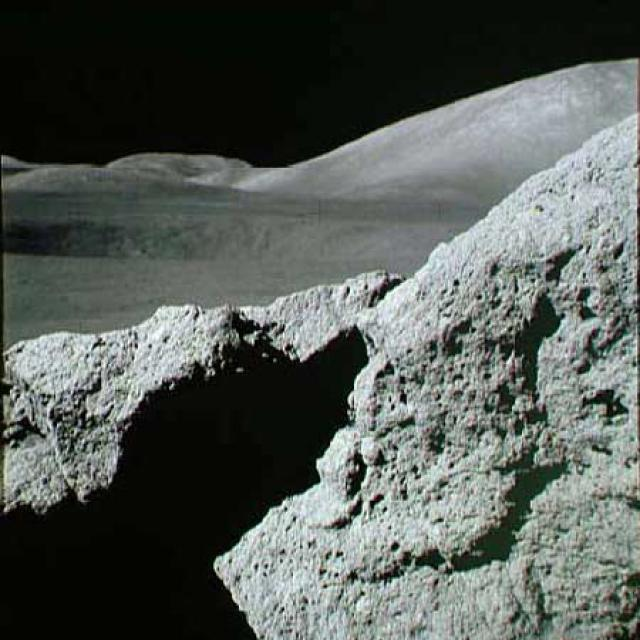crater: (2, 207, 426, 261)
rock: (4, 108, 639, 639)
